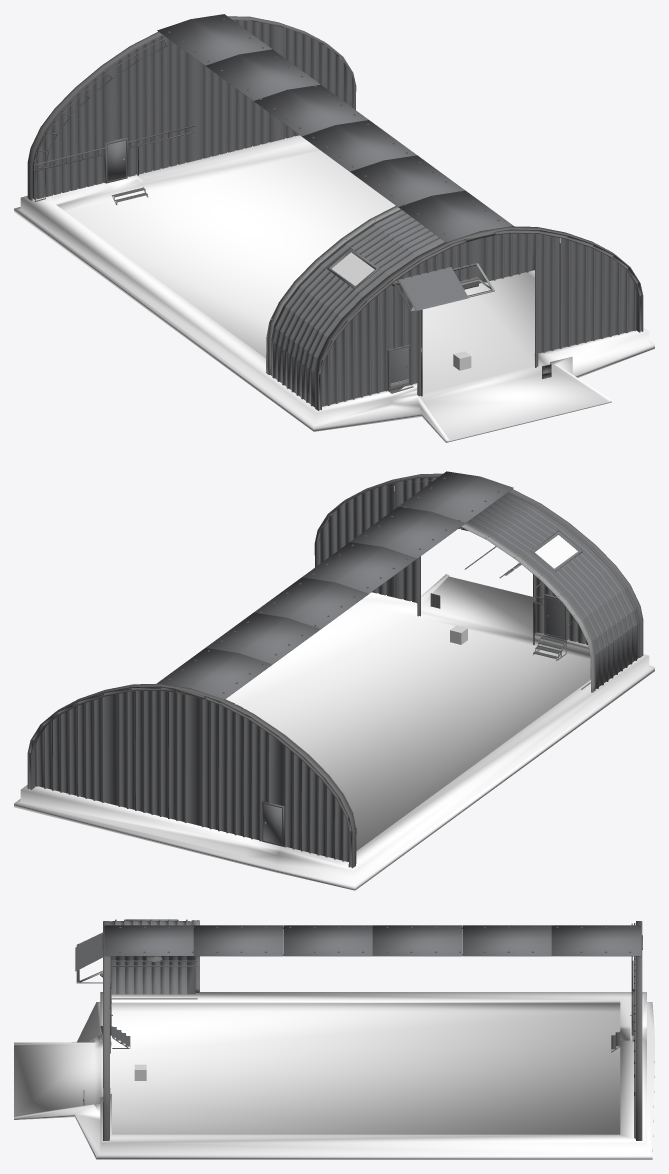
Rendered from building new.glb.
The picture shows the model from 3 angles, top to bottom: view 1: azimuth 30°, elevation 25°; view 2: azimuth 150°, elevation 25°; view 3: azimuth 270°, elevation 25°; orthographic projection. The views are drawn at different scales.
Parts seen in each view (by area): view 1: foundation, facade back, facade, Roof base, Roof, border, visor roof, Roof mount, Windows, Door front, Door back, MAIN CONSTRUCTION BACK UP (+1 smaller); view 2: foundation, facade back, Roof base, Roof, facade, border, Roof mount, Windows, Door front, Door back; view 3: foundation, Roof base, Roof, border, visor roof, MAIN CONSTRUCTION, facade back.
Boxes of the visible parts, x1,y1,x2,y2 form: foundation: (14,135,654,442); facade back: (34,19,354,199); facade: (322,233,636,406); Roof base: (157,14,513,242); Roof: (270,209,444,407); border: (27,16,643,410); visor roof: (398,267,468,310); Roof mount: (266,206,400,374); Windows: (327,248,378,289); Door front: (104,137,127,183); Door back: (387,344,410,390); MAIN CONSTRUCTION BACK UP: (35,37,174,201); foundation: (14,574,654,890); facade back: (35,690,348,861); Roof base: (157,471,513,699); Roof: (466,492,638,688); facade: (316,477,587,644); border: (27,473,643,868); Roof mount: (461,523,595,692); Windows: (530,530,582,571); Door front: (261,801,284,846); Door back: (544,594,567,639); foundation: (14,992,654,1159); Roof base: (104,925,640,956); Roof: (109,919,195,994); border: (102,921,642,1140); visor roof: (75,933,102,971); MAIN CONSTRUCTION: (110,956,197,999); facade back: (634,923,635,1138).
Size of the model in its own units: 129 by 56.53 by 227.
10 materials, 3 textured.
